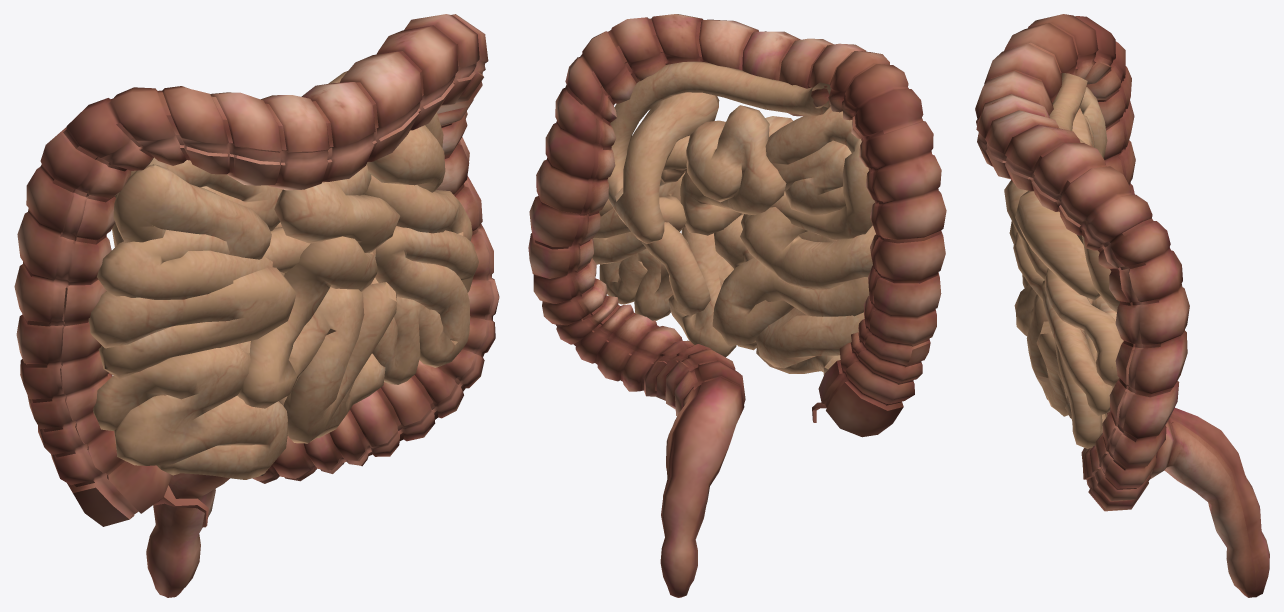
Rendered from intestinalCanal.fbx.
3 renders of one model, left to right at view 1: azimuth 30°, elevation 25°; view 2: azimuth 150°, elevation 25°; view 3: azimuth 270°, elevation 25°, orthographic. The views are drawn at different scales.
Parts seen in each view (by area): view 1: intestinalCanal; view 2: intestinalCanal; view 3: intestinalCanal.
Boxes of the visible parts, x1,y1,x2,y2 form: intestinalCanal: (14,14,499,597); intestinalCanal: (528,14,946,597); intestinalCanal: (975,14,1269,597).
Size of the model in its own units: 22.71 by 27.21 by 13.85.
